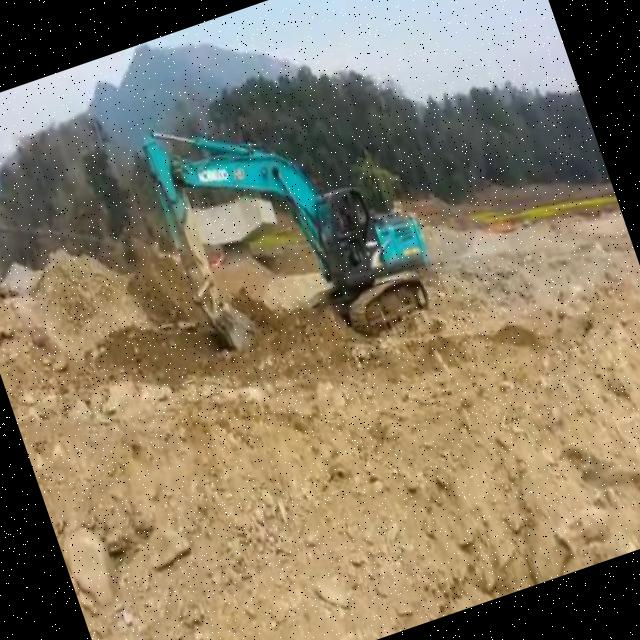Excavator: (126, 50, 448, 396)
